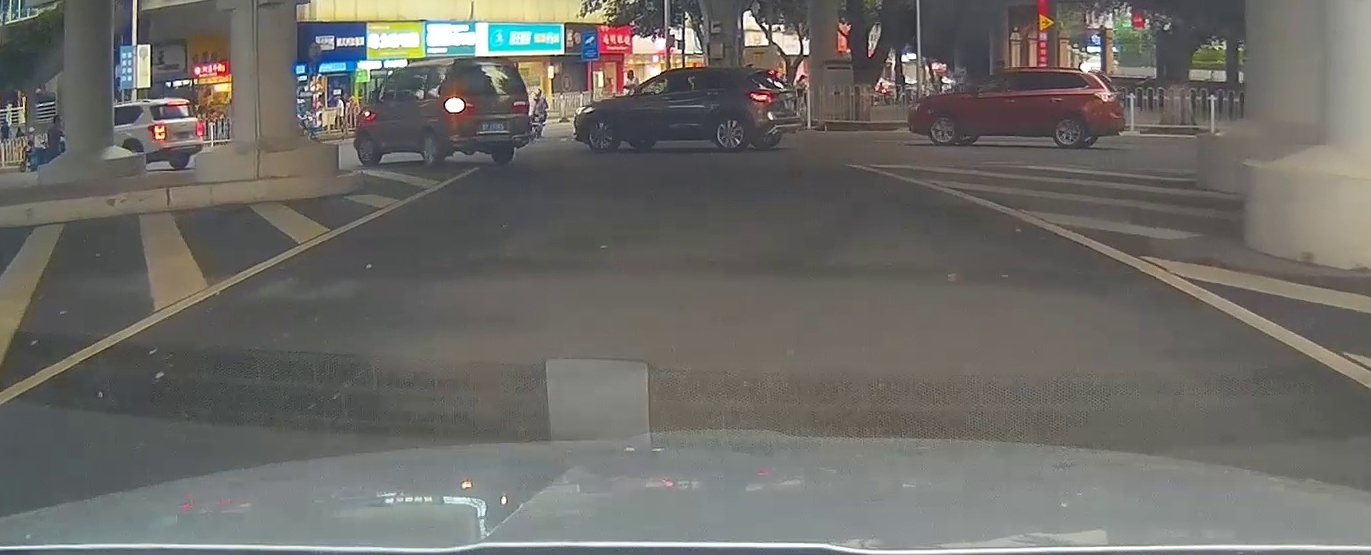L_light: (445, 101, 473, 113), (148, 124, 165, 141)
R_light: (513, 101, 529, 112), (195, 121, 203, 137)
T_light: (167, 100, 186, 106), (487, 63, 500, 66)
day-brake: (144, 99, 204, 167)
day-left: (443, 56, 530, 167)
